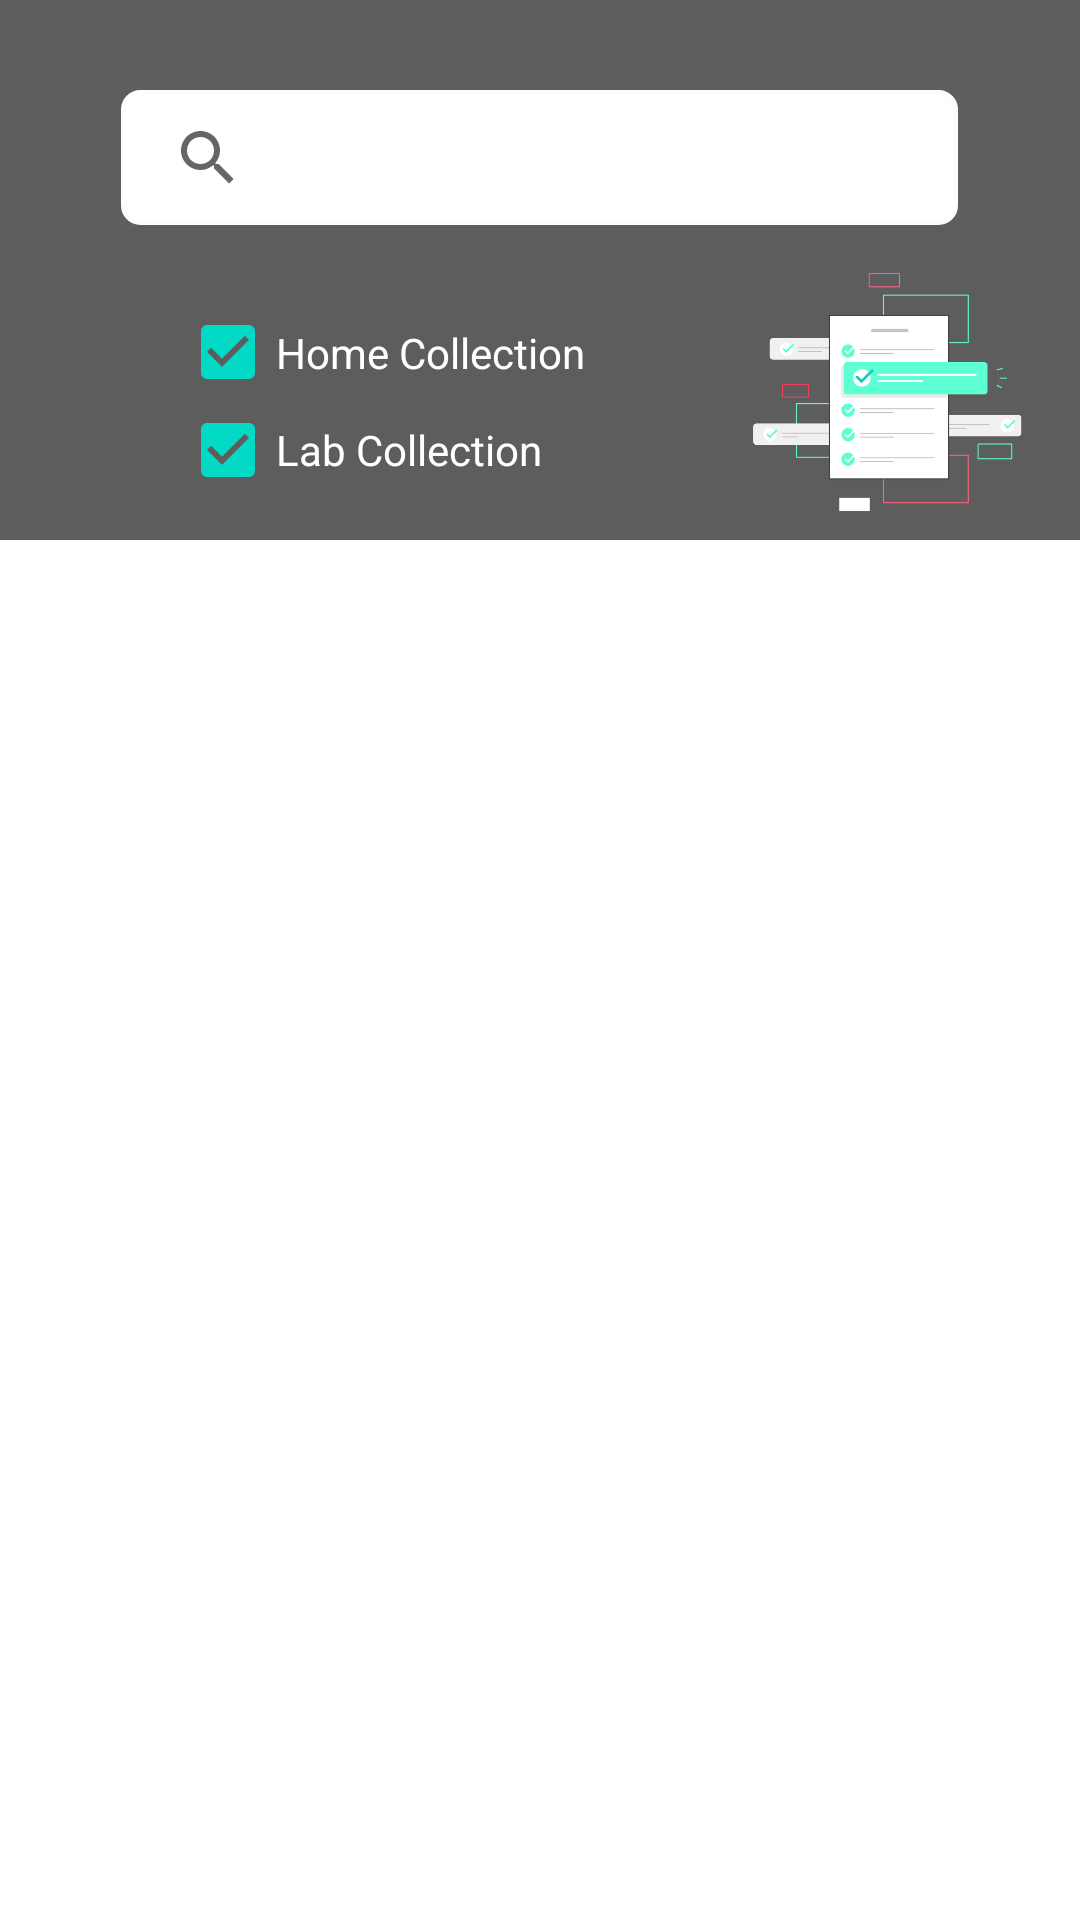

Locate icon controls on the screen. Image size 1080×1920, boxes as (x1, y1, x2, y2).
appimageform: (753, 273, 1022, 511)
